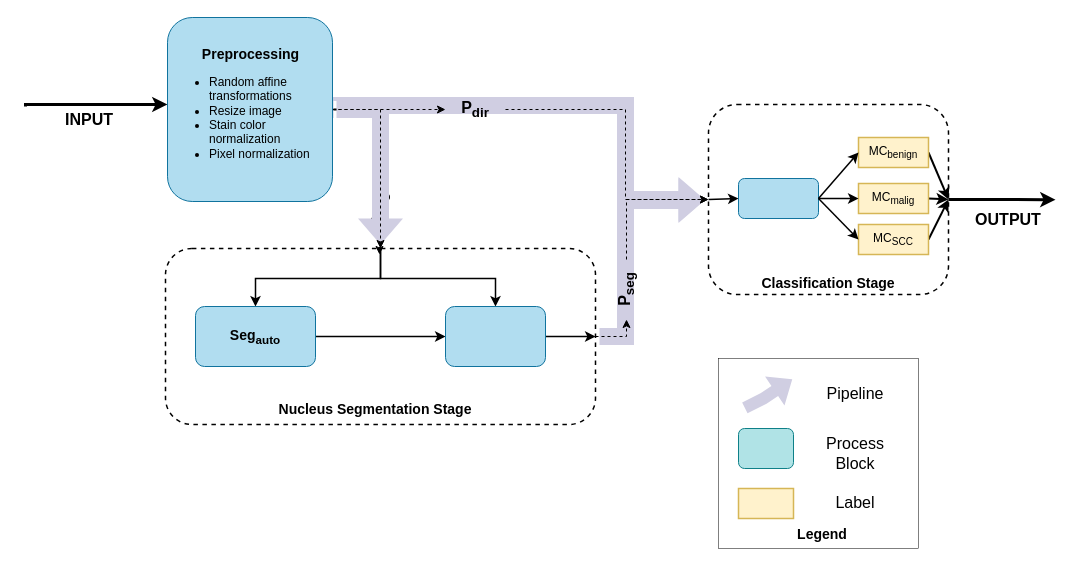
This 1082x567 diagram has some shape labels left out. Each missing label, with the centre of its shape:
Bitwise-AND: point 495,336
Cl mul: point 778,198
